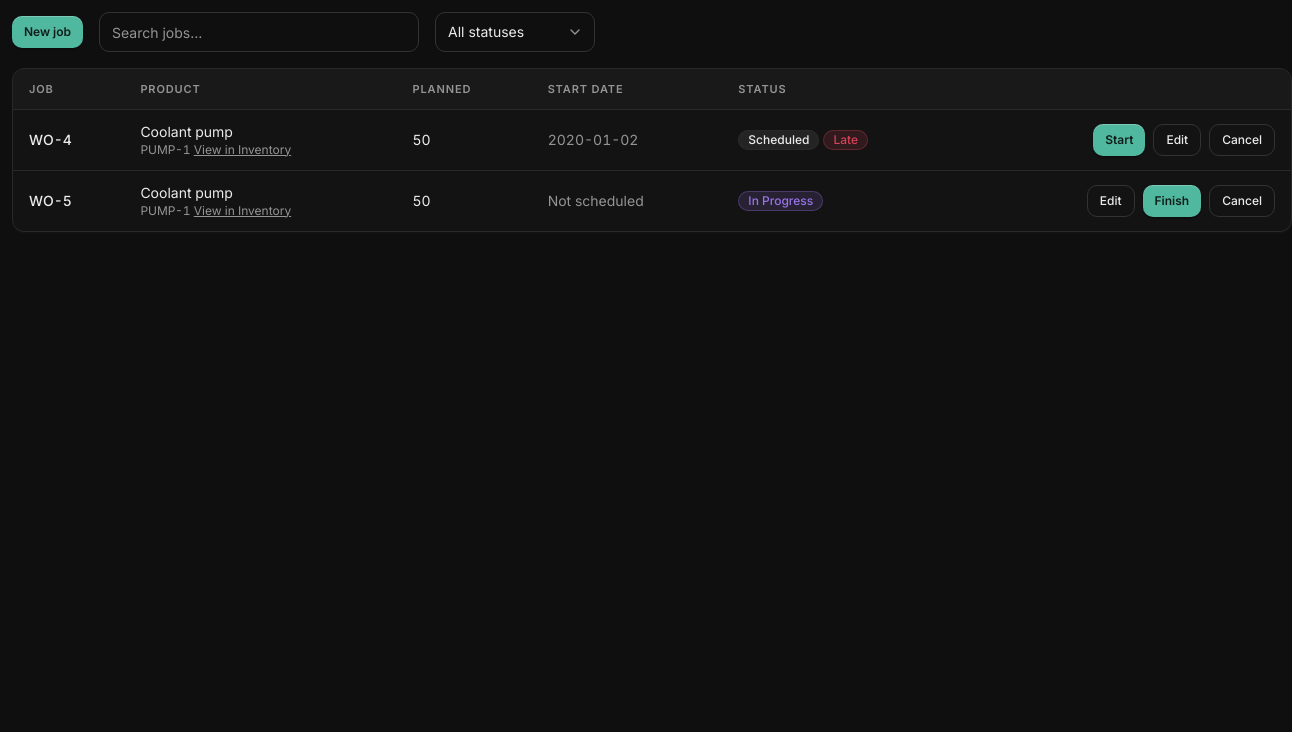
Test: JobsPanel › raises a scheduled job with the chosen item, quantity, date and notes
Click the button "New job" at (48, 32), box [12, 16, 83, 48]
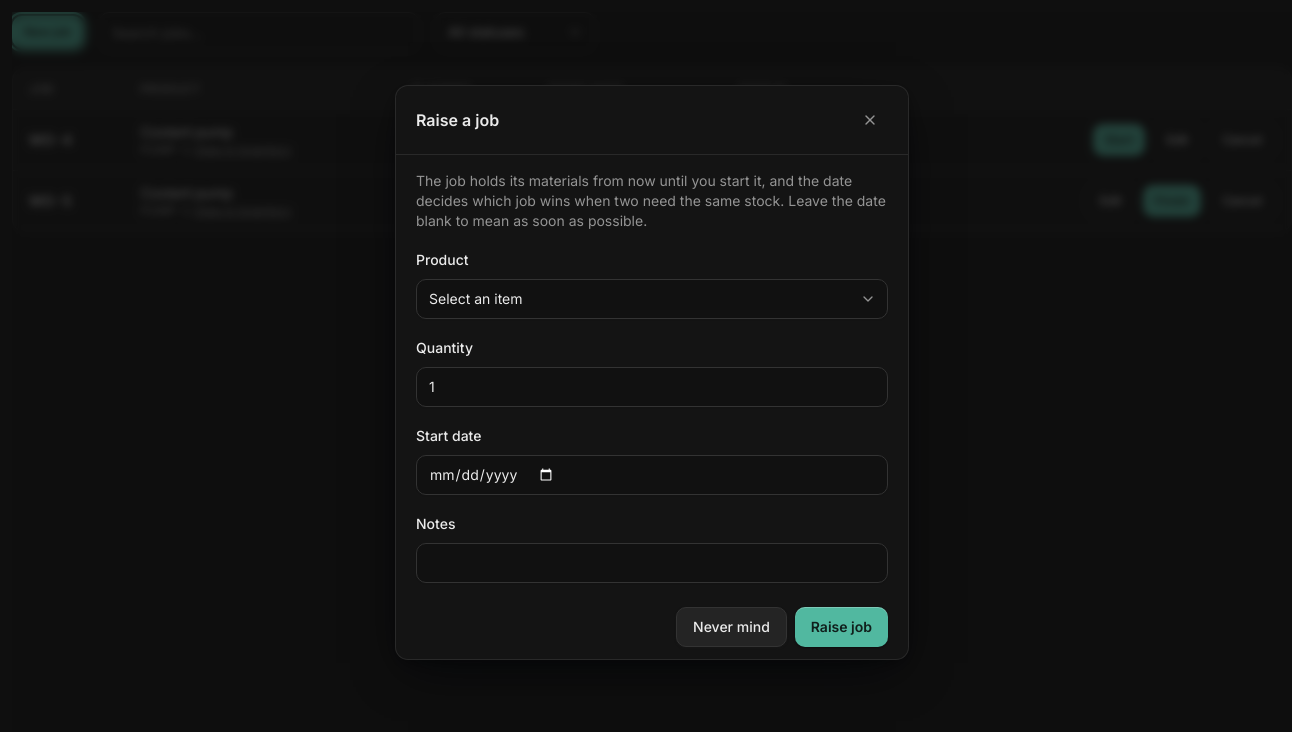
Select "PUMP-1 - Coolant pump" in the dropdown labelled "Product" at (652, 298), box [416, 278, 888, 318]
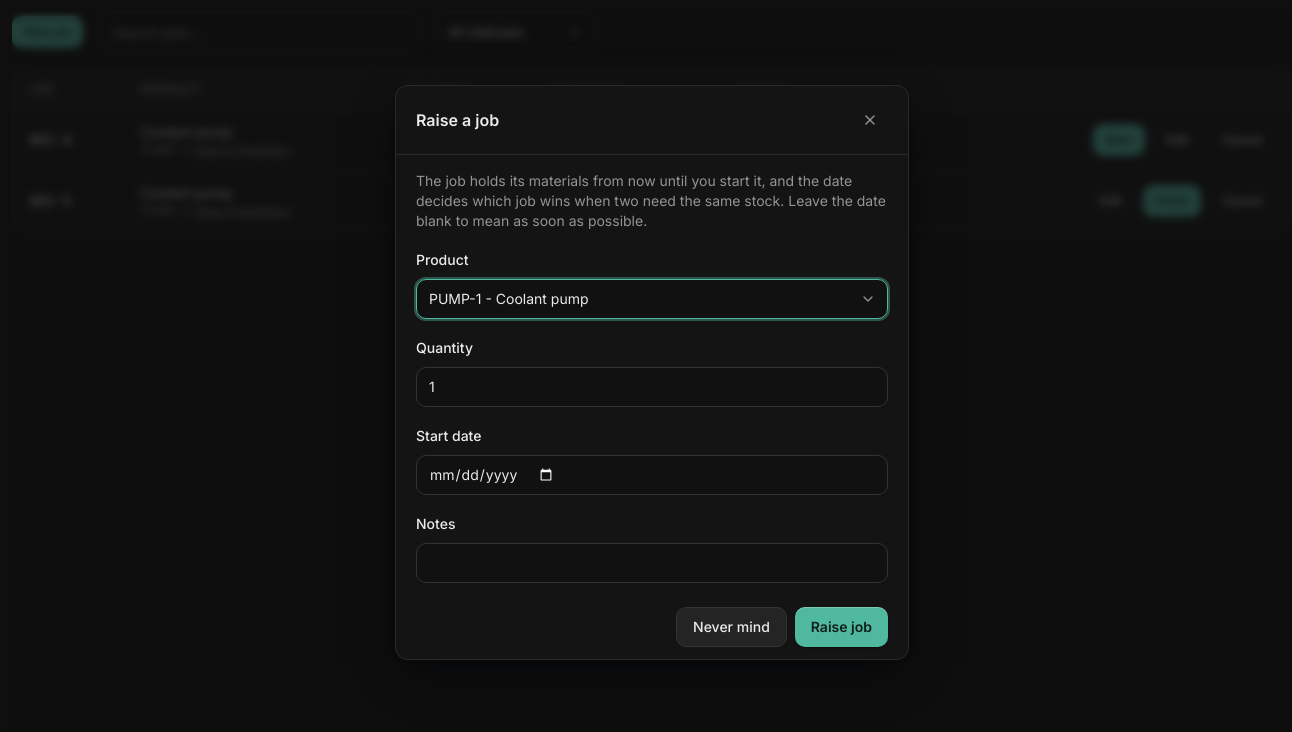
Replace the text in the number field labelled "Quantity" with "12" at (652, 386), box [416, 366, 888, 406]
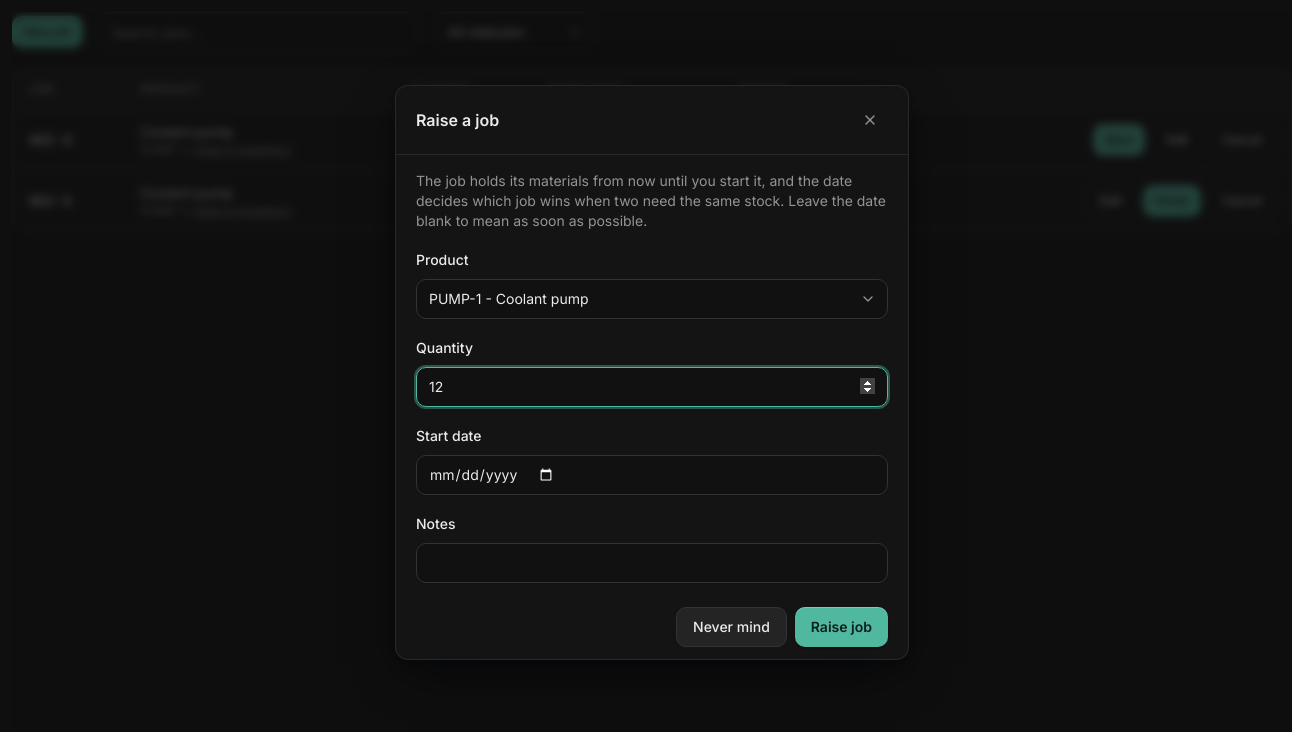
Type "2026-11-01" into the date field labelled "Start date" at (652, 474), box [416, 454, 888, 494]
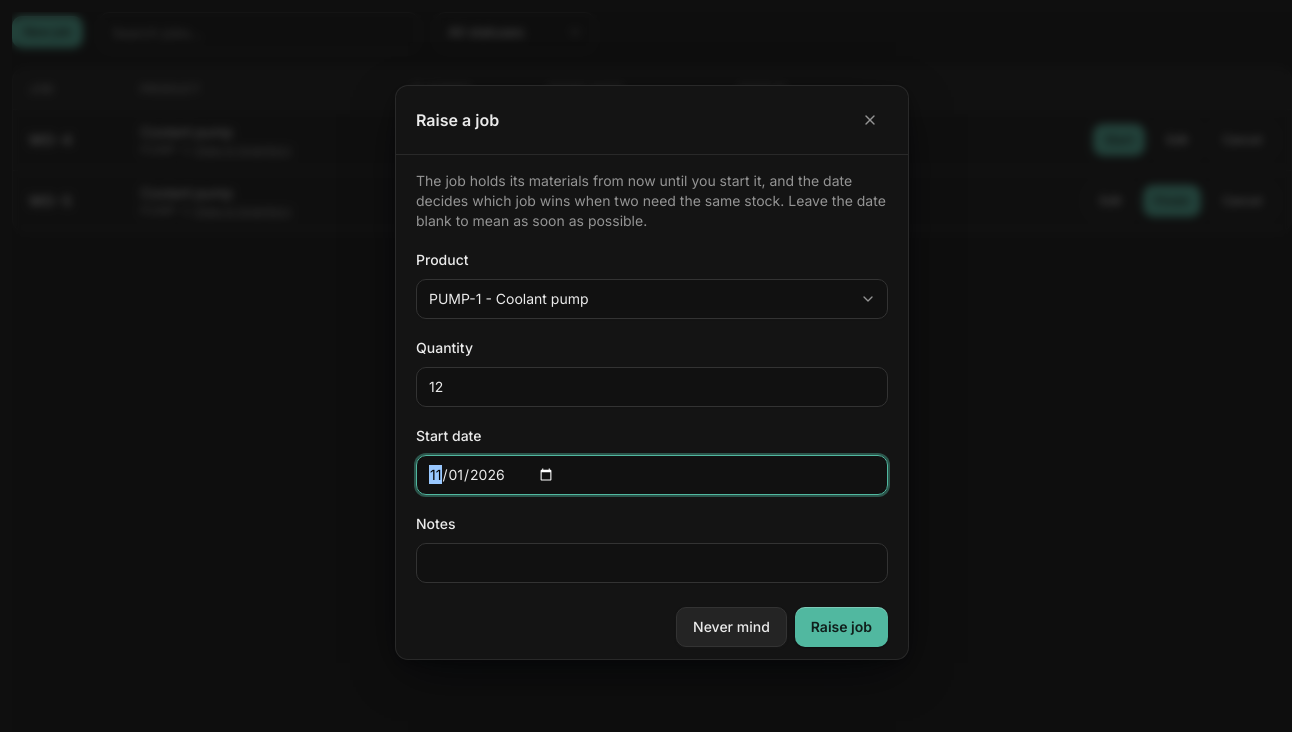
Type "for Acme" into the field labelled "Notes" at (652, 562), box [416, 542, 888, 582]
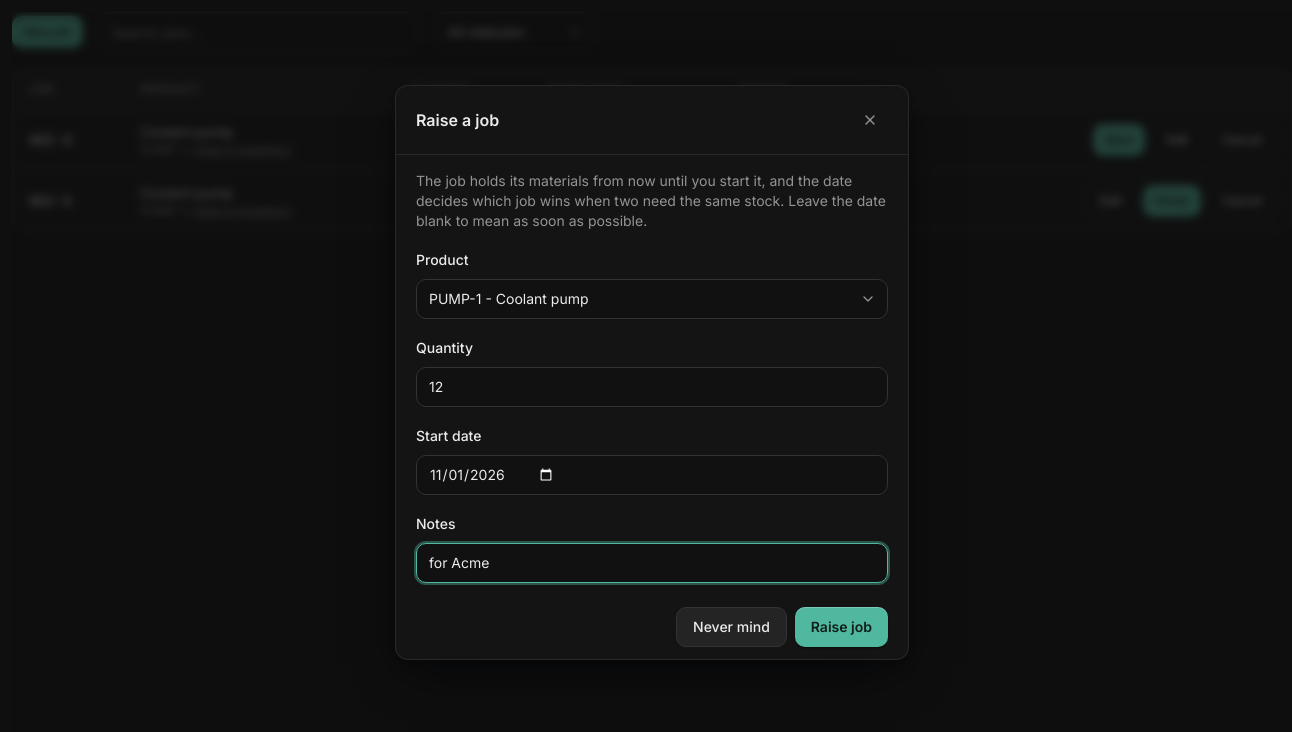
Click the button "Raise job" at (841, 626), box [795, 606, 888, 646]
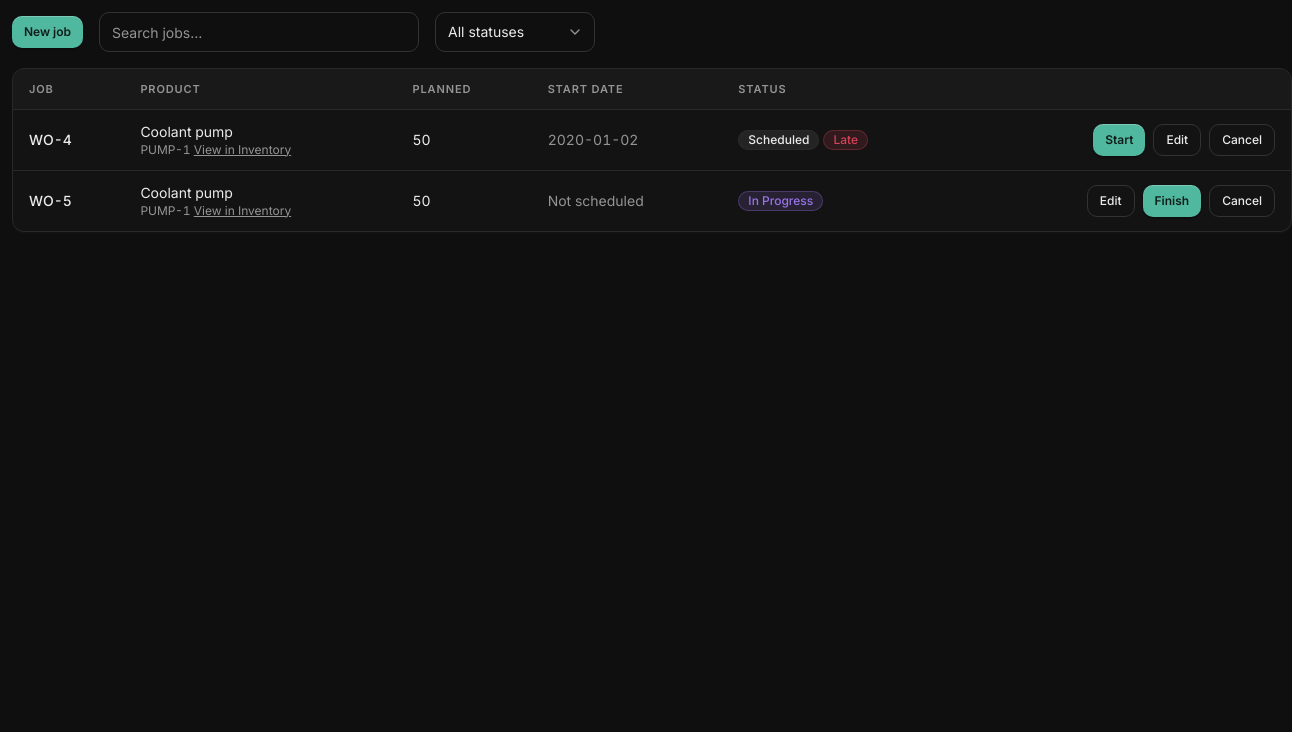
Expected: the heading "Raise a job" is gone
